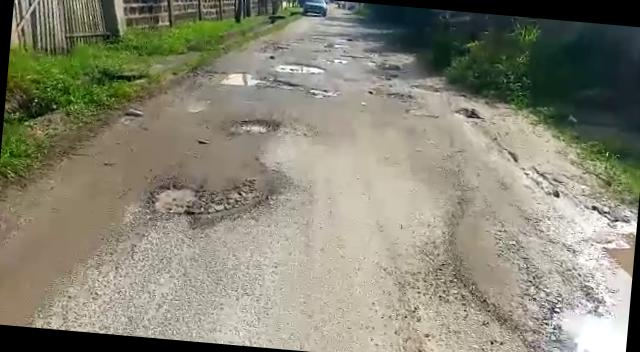pothole: (548, 239, 635, 352), (146, 166, 286, 234), (222, 71, 310, 91), (228, 114, 286, 138), (270, 59, 328, 75), (305, 86, 337, 98)
